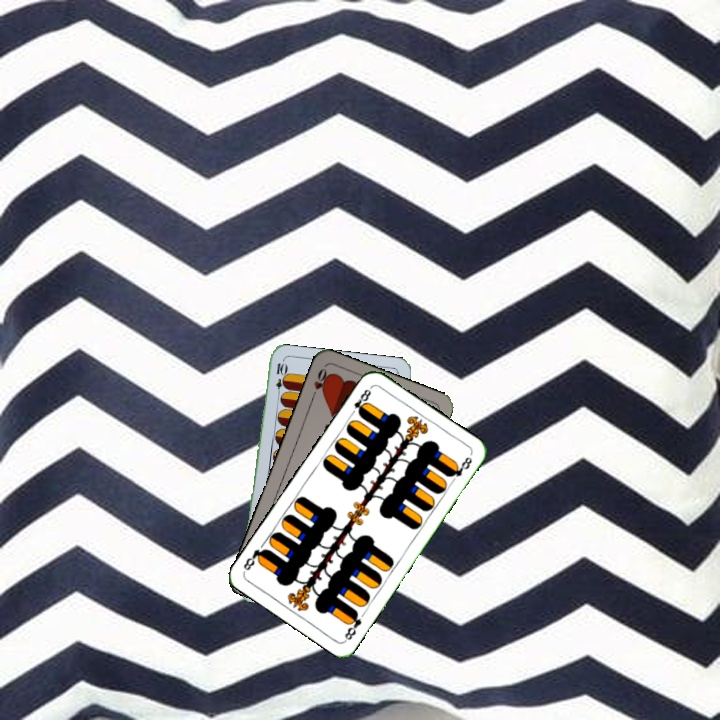E10: (272, 359, 287, 399)
E8: (346, 383, 374, 419), (340, 607, 364, 643)
HO: (307, 364, 332, 402)
